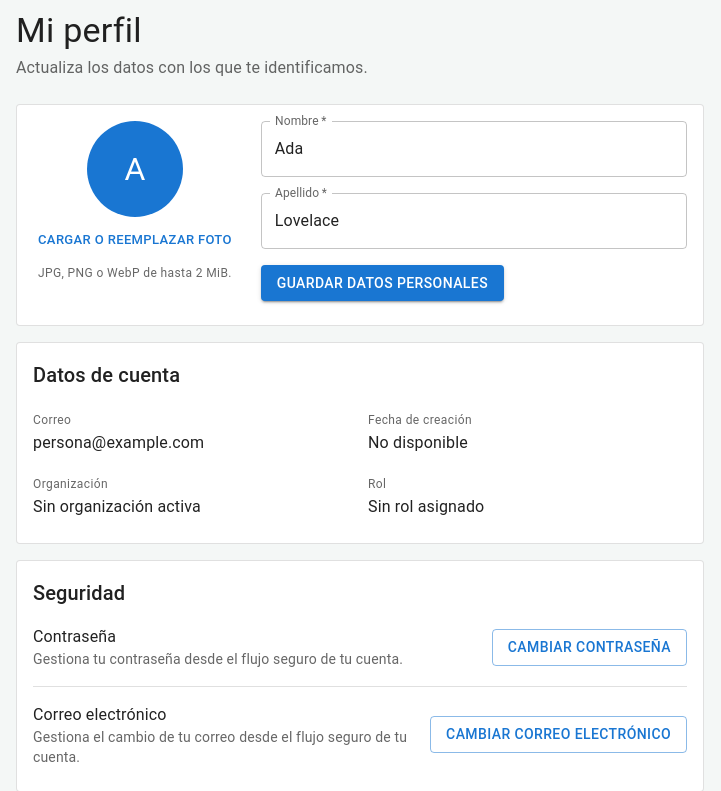
PerfilPage › hace upsert con el identificador de la sesion y confirma el guardado
Replace the text in the field labelled "Nombre *" with "  Grace " at coordinates (474, 149), box [261,121,687,177]
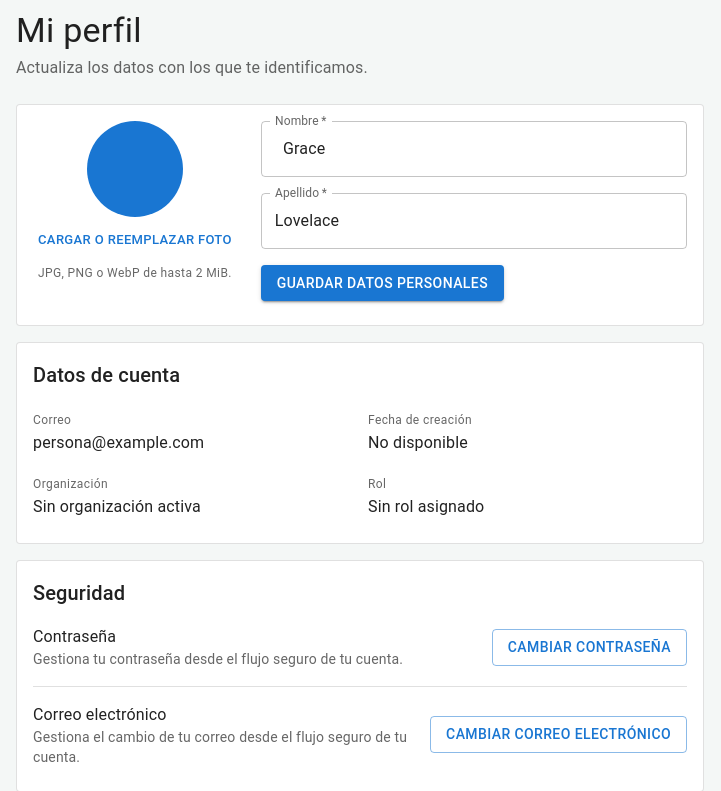
Replace the text in the field labelled "Apellido *" with " Hopper  " at coordinates (474, 221), box [261,193,687,249]
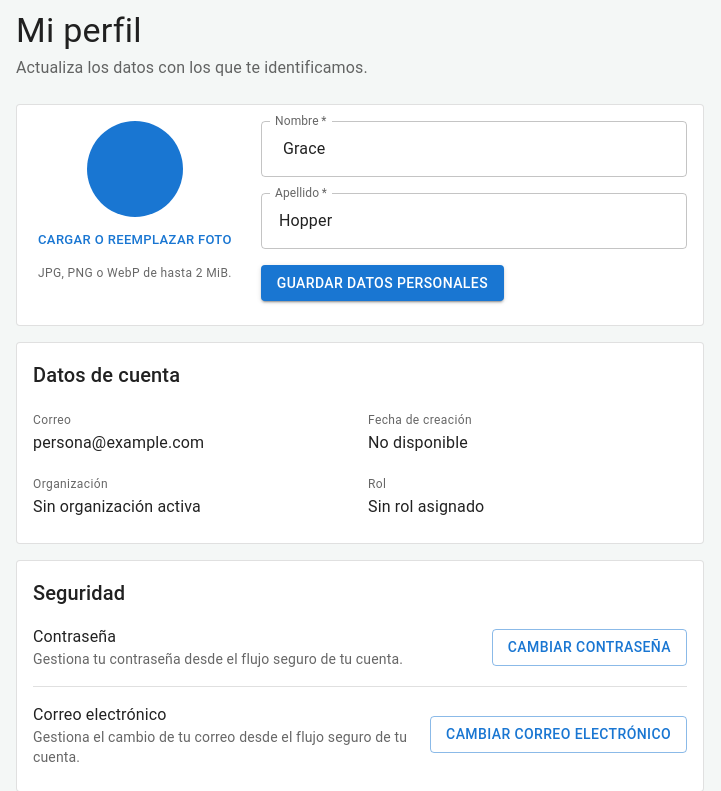
Click the button "Guardar datos personales" at coordinates (382, 283), box [261,265,504,302]
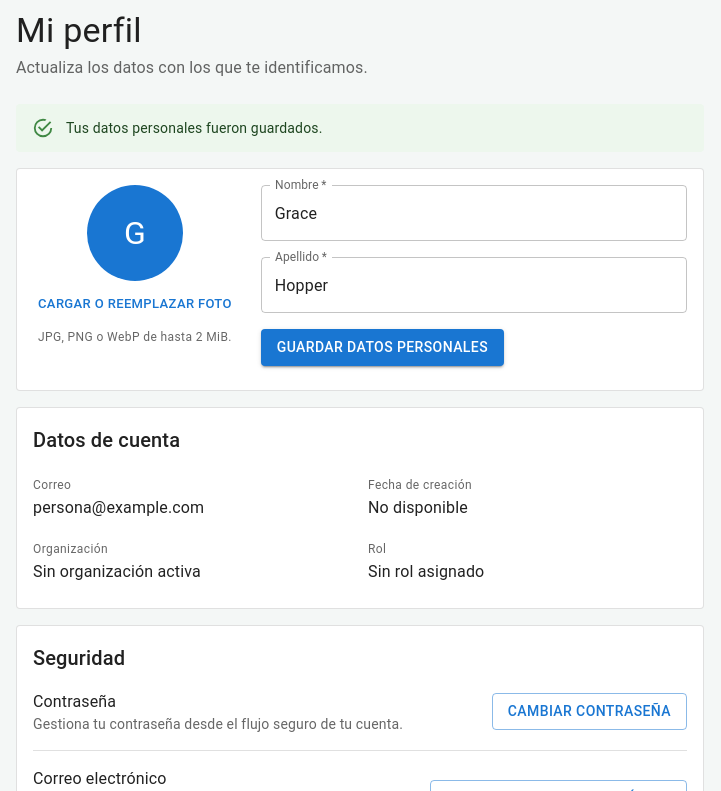
Now the message reads "Tus datos personales fueron guardados.", box [66,120,322,136]
